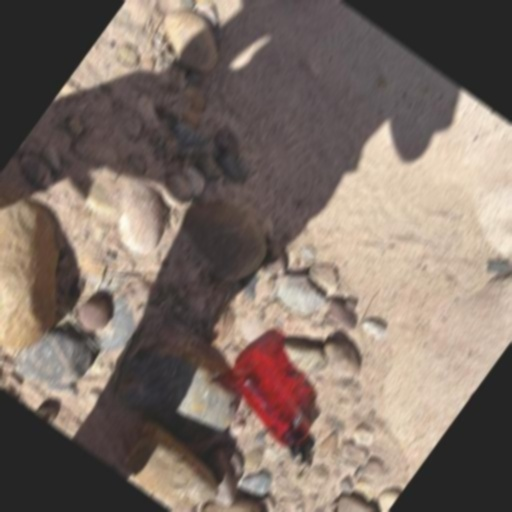bottle: (208, 349, 338, 468)
